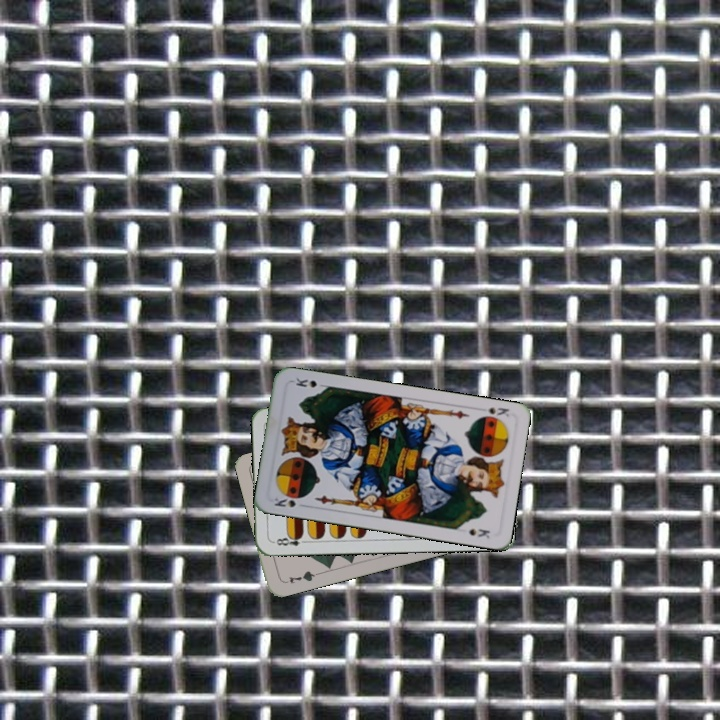E8: (269, 531, 310, 548)
G7: (285, 567, 320, 586)
SK: (270, 492, 304, 510), (484, 403, 512, 420)
